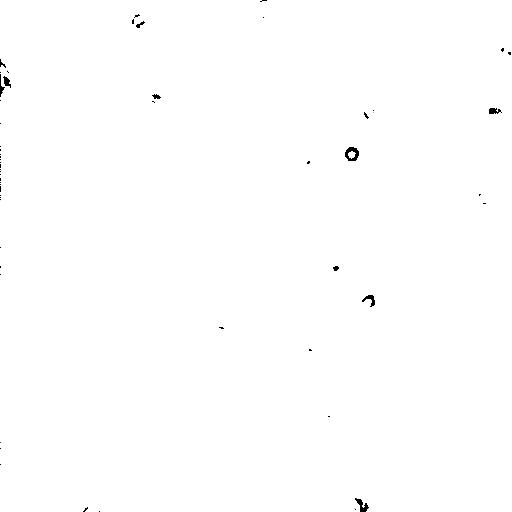micro-algae: (296, 147, 329, 183), (293, 340, 329, 373), (319, 252, 356, 281), (365, 188, 392, 215), (491, 33, 512, 66), (63, 129, 91, 152), (0, 59, 15, 101), (361, 487, 386, 511), (483, 100, 511, 121), (357, 290, 381, 314), (341, 141, 362, 162), (253, 0, 276, 18), (343, 494, 367, 511), (473, 184, 492, 205), (127, 11, 149, 29), (83, 1, 117, 10), (360, 104, 379, 120), (1, 75, 13, 95), (81, 504, 103, 511)
